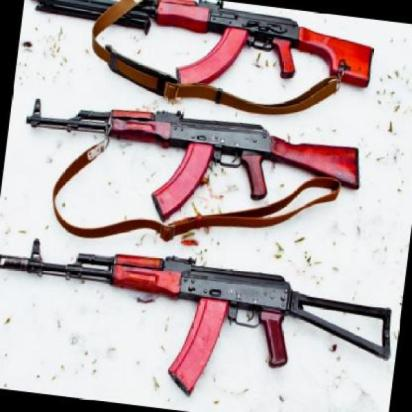Gun: (0, 219, 396, 412), (13, 81, 372, 254), (13, 0, 375, 127)
